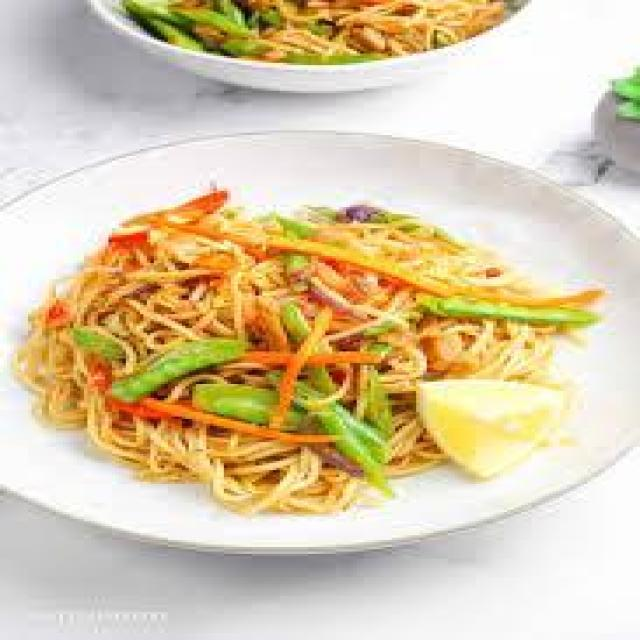pancit bihon: (48, 180, 582, 497)
